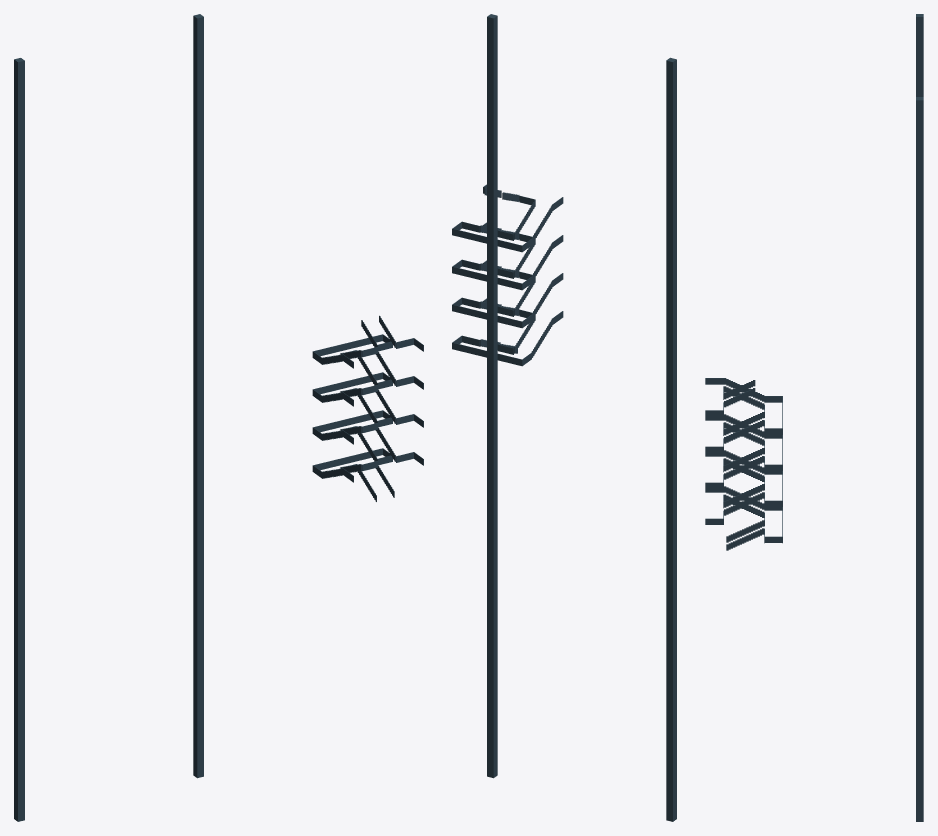
The model's file is v02-02-06-steel.glb.
3 views of the same model, side by side, from view 1: azimuth 30°, elevation 25°; view 2: azimuth 150°, elevation 25°; view 3: azimuth 270°, elevation 25° (orthographic). The views are drawn at different scales.
Parts seen in each view (by area): view 1: v02-02-06-steel; view 2: v02-02-06-steel; view 3: v02-02-06-steel.
Part boxes in pixels (left/top/right/bottom): v02-02-06-steel: left=14, top=14, right=423, bottom=821; v02-02-06-steel: left=452, top=14, right=676, bottom=821; v02-02-06-steel: left=705, top=14, right=923, bottom=821.
Size of the model in its own units: 52 by 128 by 35.08.
